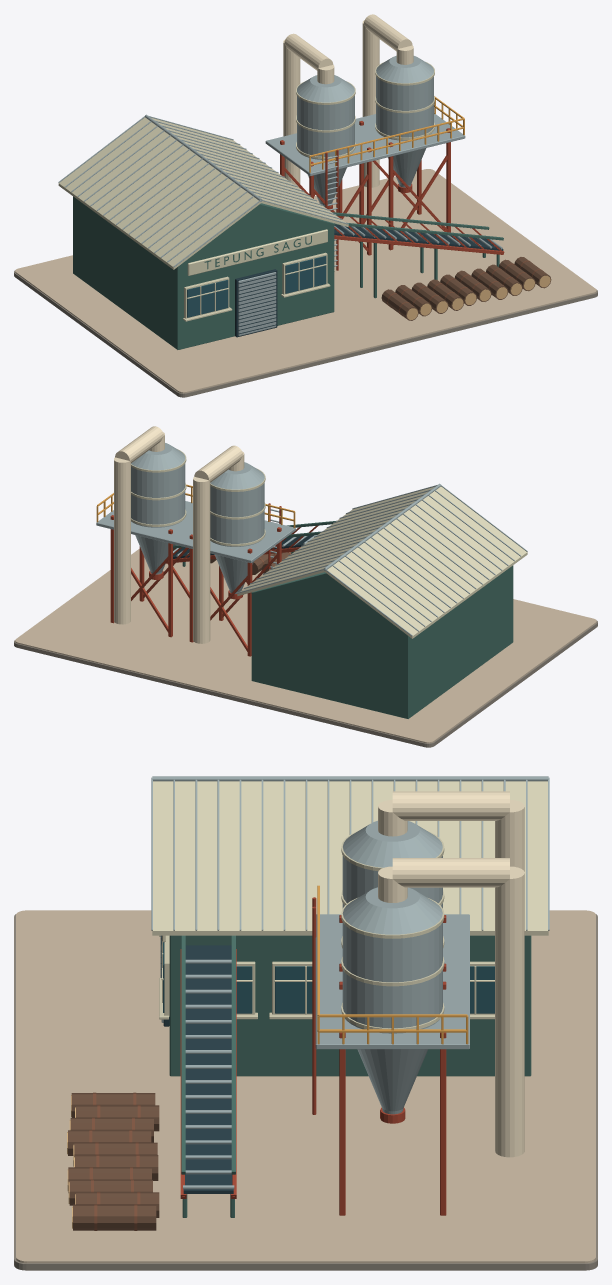
The picture shows the model from 3 angles, top to bottom: view 1: azimuth 30°, elevation 25°; view 2: azimuth 150°, elevation 25°; view 3: azimuth 270°, elevation 25°; orthographic projection. The views are drawn at different scales.
Visible parts, largest first — view 1: Mill House, Cyclone Gantry, Rasping Conveyor; view 2: Mill House, Cyclone Gantry, Rasping Conveyor; view 3: Mill House, Cyclone Gantry, Rasping Conveyor.
Part boxes in pixels (x1,y1,x2,y2): Mill House: (14,114,597,397); Cyclone Gantry: (265,14,465,270); Rasping Conveyor: (332,212,551,320); Mill House: (14,483,597,747); Cyclone Gantry: (96,426,295,656); Rasping Conveyor: (166,520,336,574); Mill House: (14,776,597,1270); Cyclone Gantry: (312,791,524,1215); Rasping Conveyor: (67,935,236,1230).
Bounding box in the file's own units: 27 × 12.12 × 18.9.
